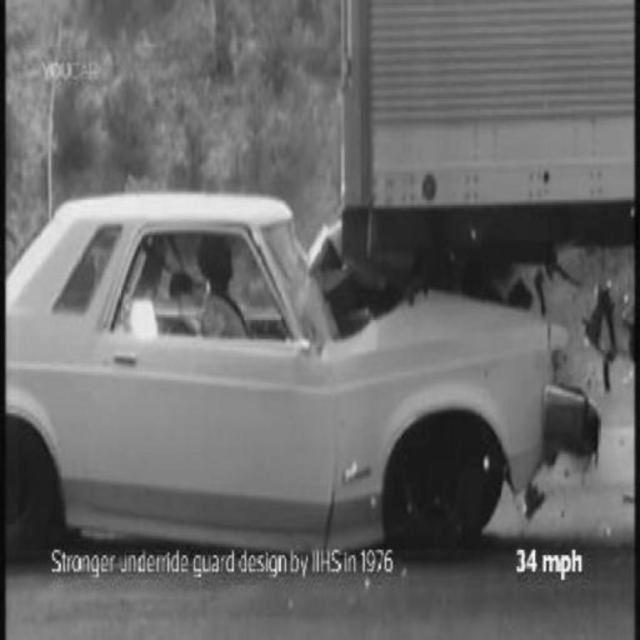accident: (19, 47, 639, 551)
